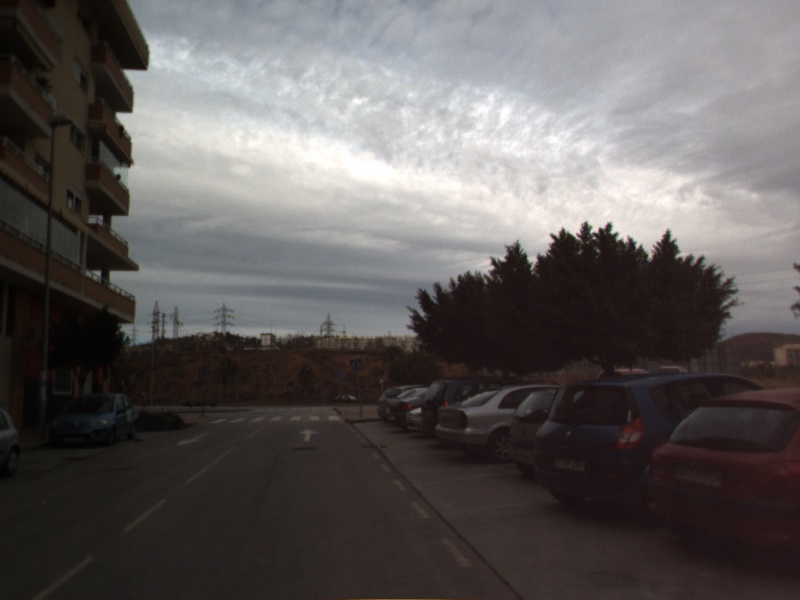STRAIGHT: (297, 427, 320, 443)
